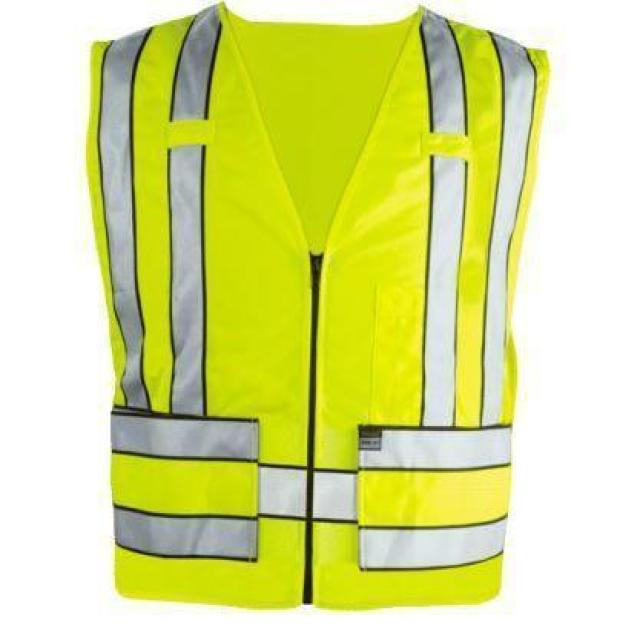Vest: (89, 2, 548, 613)
